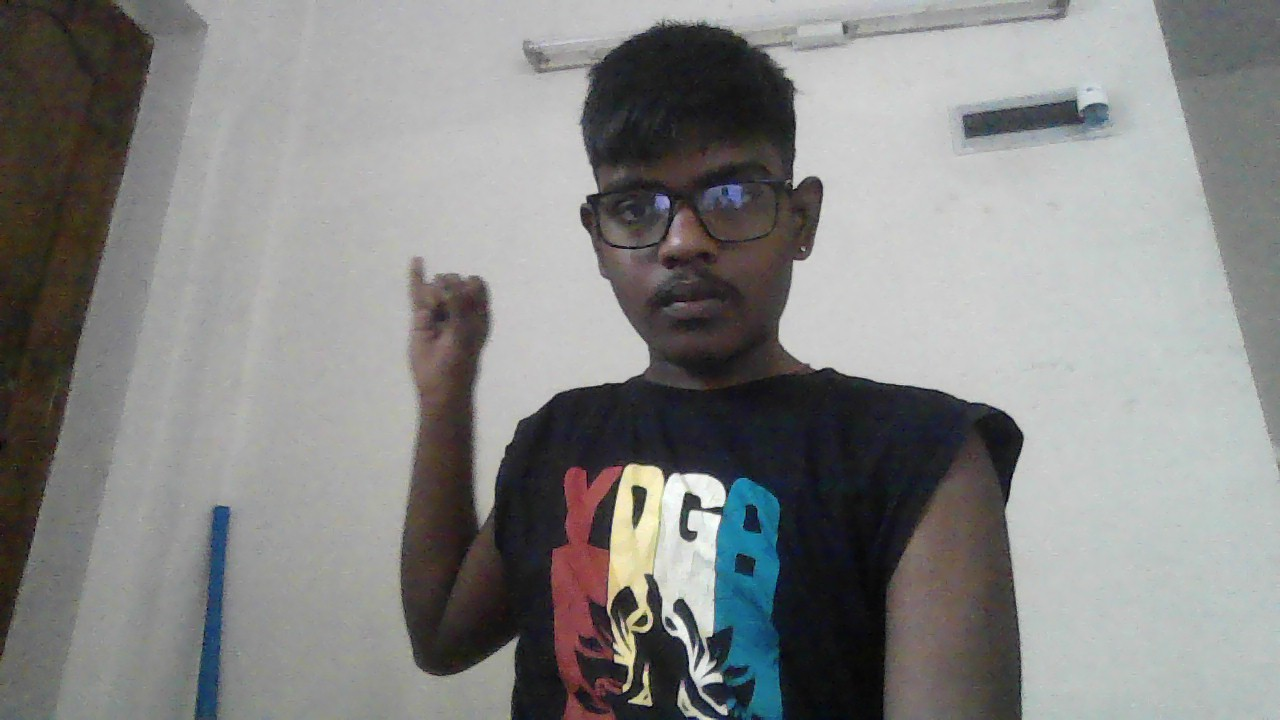I: (405, 255, 491, 408)
